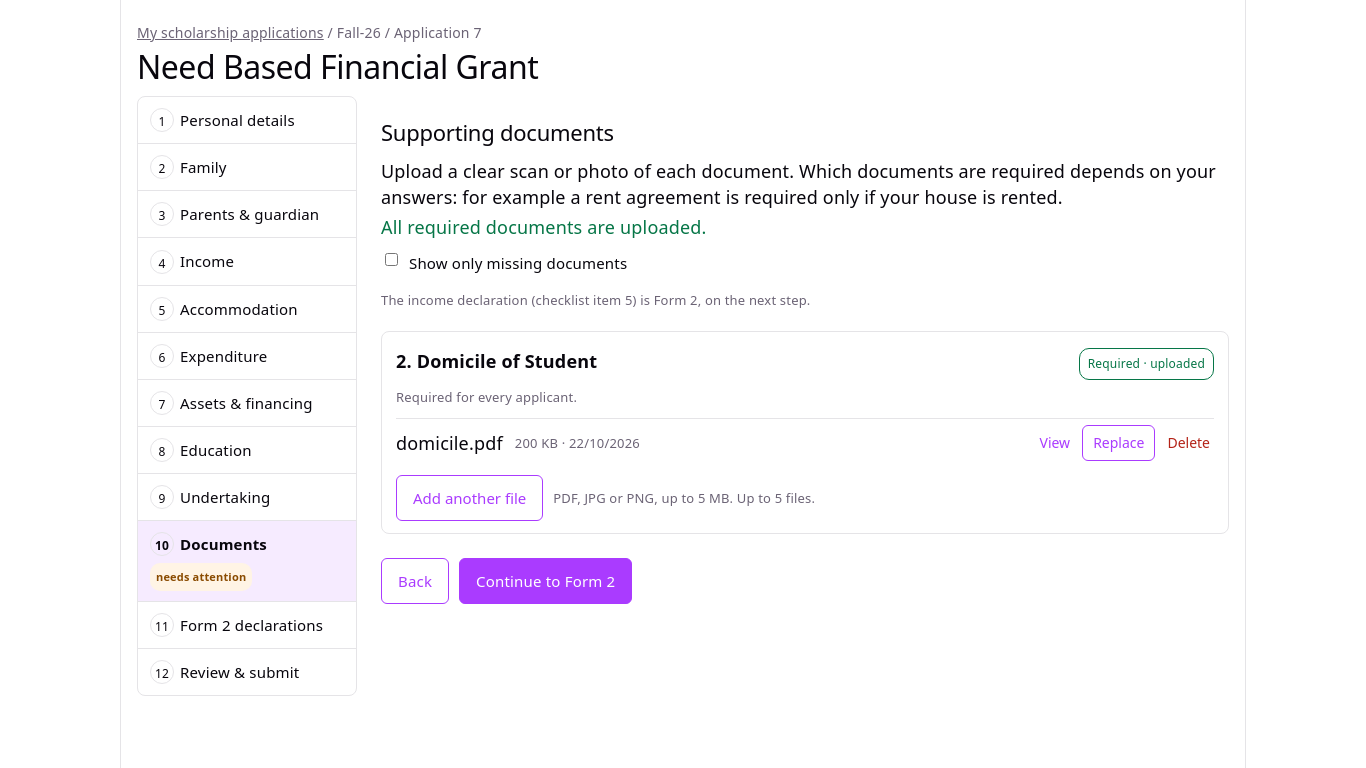
Scenario: a file can be deleted after confirming
Click the button "Delete". click: (1189, 443)
box: [1163, 426, 1214, 460]
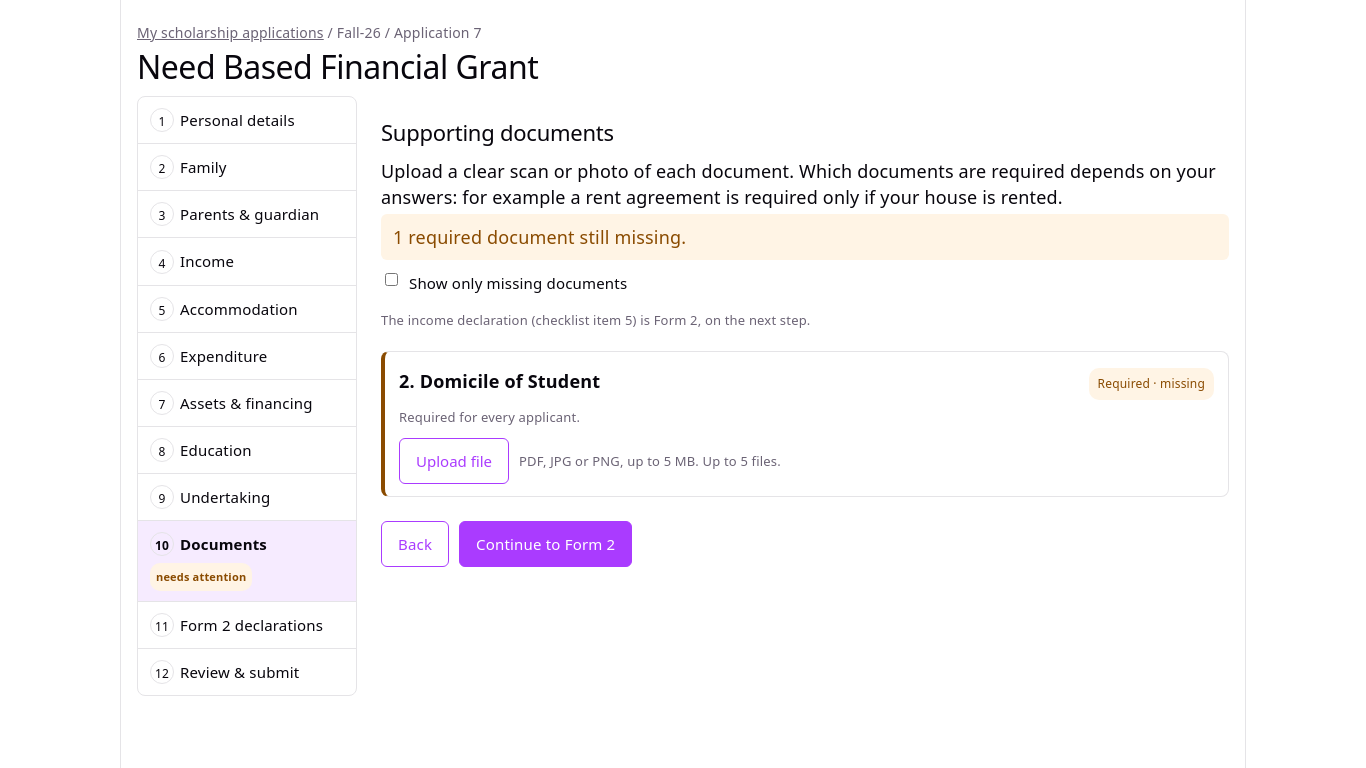
Now the text "1 required document still missing." is shown, box [381, 214, 1229, 260]
